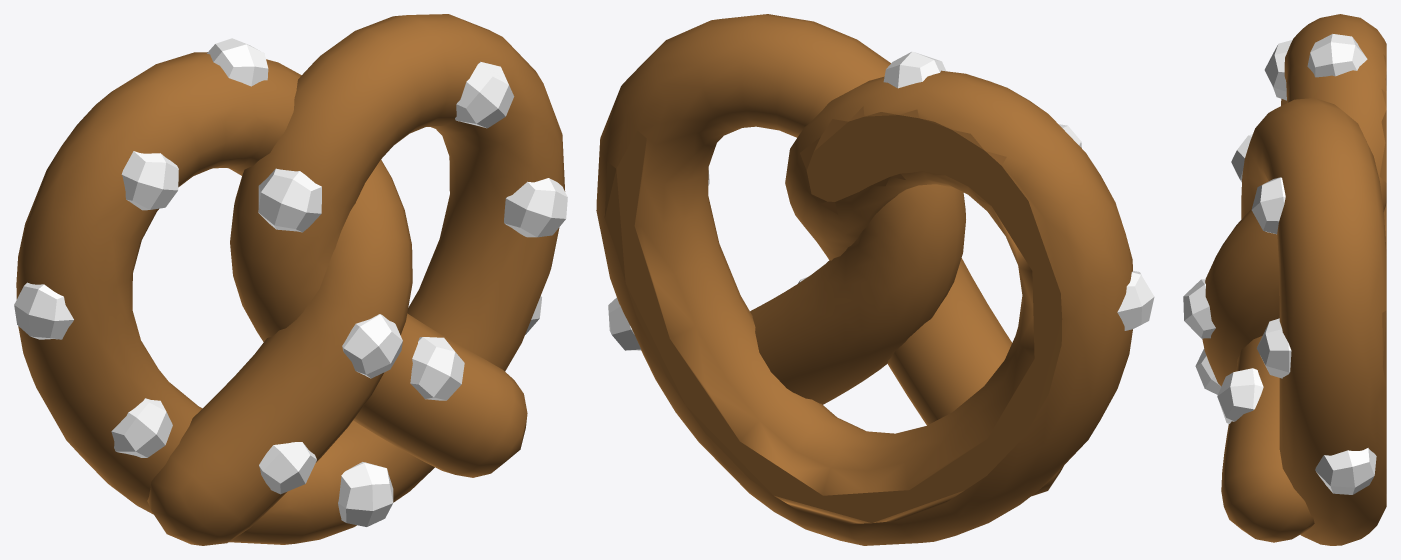
The model's file is pretzel.glb.
3 renders of one model, left to right at view 1: azimuth 30°, elevation 25°; view 2: azimuth 150°, elevation 25°; view 3: azimuth 270°, elevation 25°, orthographic. The views are drawn at different scales.
Visible parts, largest first — view 1: BézierCurve.027, BézierCurve.028; view 2: BézierCurve.027, BézierCurve.028; view 3: BézierCurve.027, BézierCurve.028.
Part boxes in pixels (x1=…): BézierCurve.027: x1=16, y1=14, x2=565, y2=545; BézierCurve.028: x1=14, y1=38, x2=567, y2=526; BézierCurve.027: x1=596, y1=14, x2=1132, y2=545; BézierCurve.028: x1=608, y1=51, x2=1154, y2=350; BézierCurve.027: x1=1202, y1=14, x2=1386, y2=545; BézierCurve.028: x1=1183, y1=34, x2=1376, y2=494.
Size of the model in its own units: 15.18 by 13.44 by 5.39.
